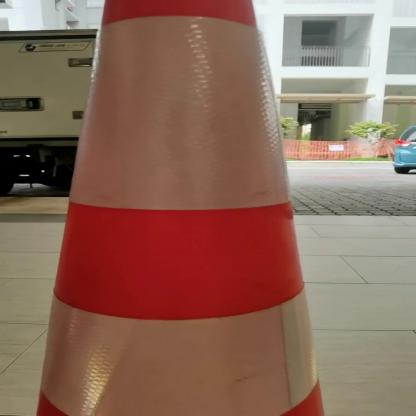cone: (8, 2, 399, 415)
